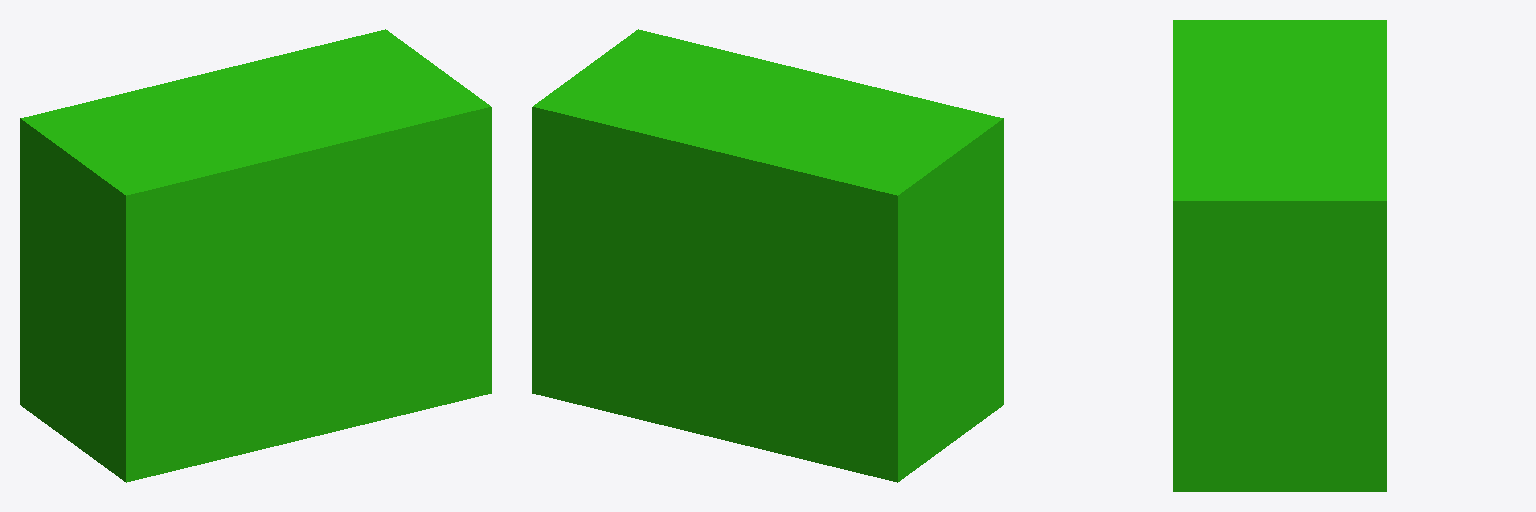
The robot description file, URDF, robot "rectangular_box":
<?xml version='1.0' encoding='UTF-8'?>
<robot name="rectangular_box">
  <link name="base_link">
    <inertial>
      <origin xyz="0.0 0.0 0.0" rpy="0.0 -0.0 0.0"/>
      <mass value="1.0"/>
      <inertia ixx="1.0" ixy="0.0" ixz="0.0" iyy="1.0" iyz="0.0" izz="1.0"/>
    </inertial>
    <visual name="base_link_visual">
      <geometry>
        <box size="1.009 0.505 0.757"/>
      </geometry>
      <origin xyz="0 0 0" rpy="0 0 0"/>
      <material name="object_color">
        <color rgba="0.2 0.8 0.1 1"/>
      </material>
    </visual>
    <collision name="base_link_collision">
      <geometry>
        <box size="1.009 0.505 0.757"/>
      </geometry>
      <origin xyz="0 0 0" rpy="0 0 0"/>
    </collision>
  </link>
</robot> 

--- Facts derived from the render (not from the file) ---
3 views of the same robot in one strip: view 1: azimuth 30°, elevation 25°; view 2: azimuth 150°, elevation 25°; view 3: azimuth 270°, elevation 25° (orthographic).
Model rectangular_box with 1 links and 0 joints (none), rooted at base_link, posed every joint at zero.
Visible links, largest first — view 1: base_link; view 2: base_link; view 3: base_link.
Link boxes in pixels (box(x1,y1,x2,y2)): base_link: box(20, 29, 491, 482); base_link: box(532, 29, 1003, 482); base_link: box(1173, 20, 1386, 491).
Bounding box of the posed robot: 1.01 × 0.505 × 0.757 m (x, y, z).
Geometry: primitives only (box / cylinder / sphere), no mesh files.
